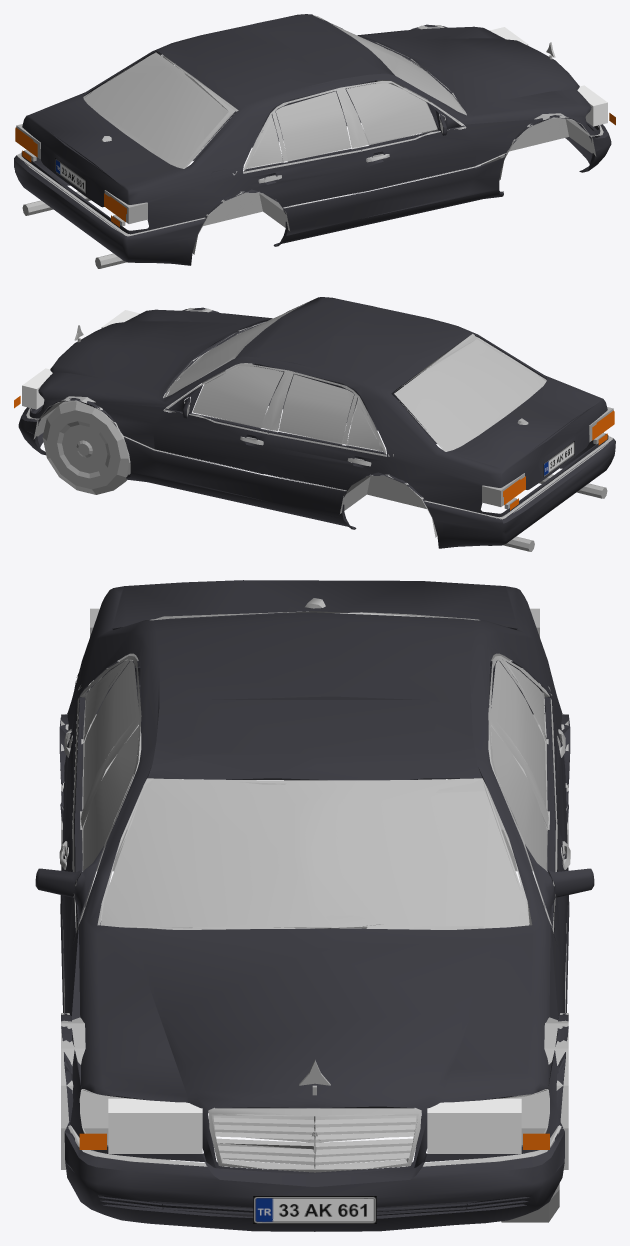
3 views of the same model, one above another, from view 1: azimuth 30°, elevation 25°; view 2: azimuth 150°, elevation 25°; view 3: azimuth 270°, elevation 25° (orthographic). The views are drawn at different scales.
Parts seen in each view (by area): view 1: bodyPainted, common, headlights, stopLights, licensePlateRear; view 2: bodyPainted, common, wheel, headlights, stopLights, licensePlateRear; view 3: bodyPainted, common, headlights, licensePlateFront.
Boxes of the visible parts, x1,y1,x2,y2 form: bodyPainted: [14, 14, 611, 265]; common: [16, 15, 603, 268]; headlights: [490, 27, 607, 126]; stopLights: [15, 128, 125, 221]; licensePlateRear: [55, 158, 86, 194]; bodyPainted: [18, 297, 615, 548]; common: [26, 302, 613, 551]; wheel: [42, 401, 130, 494]; headlights: [22, 310, 139, 409]; stopLights: [504, 411, 614, 504]; licensePlateRear: [543, 441, 574, 476]; bodyPainted: [35, 580, 594, 1231]; common: [59, 598, 570, 1172]; headlights: [108, 1098, 521, 1153]; licensePlateFront: [253, 1196, 376, 1223].
Bounding box in the file's own units: 3.25 × 0.9996 × 1.54.
Materials: 5 (1 with a texture image).
